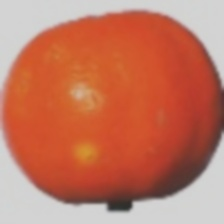tangerine: (60, 7, 203, 174)
